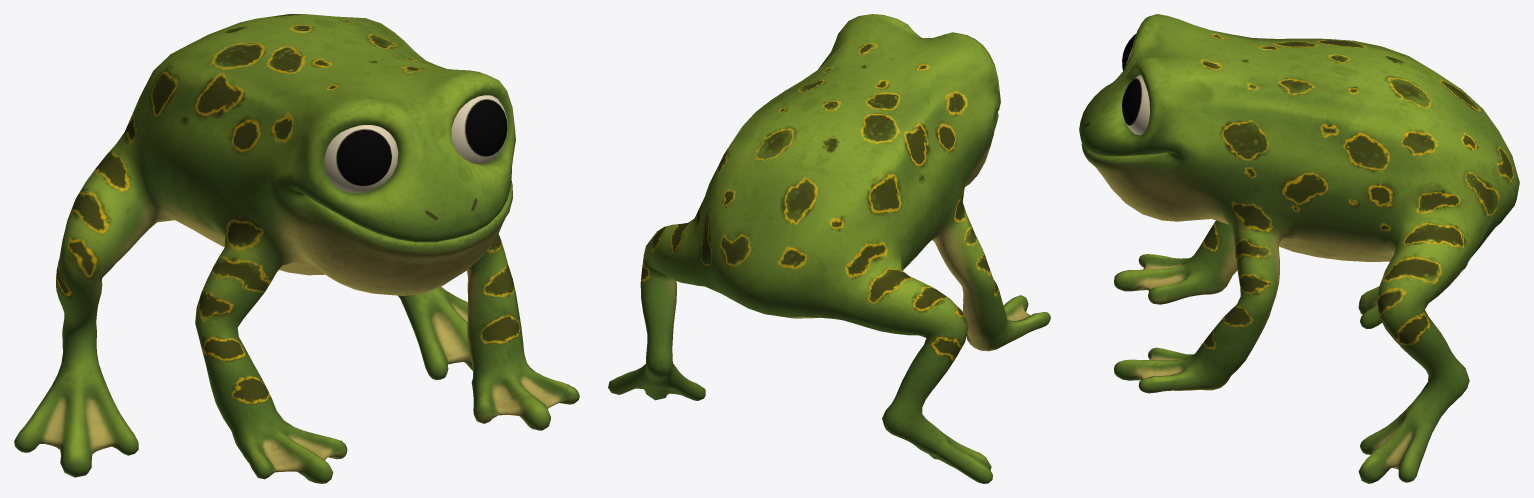
The model's file is frog_42a36860.glb.
The picture shows the model from 3 angles, left to right: view 1: azimuth 30°, elevation 25°; view 2: azimuth 150°, elevation 25°; view 3: azimuth 270°, elevation 25°; orthographic projection. The views are drawn at different scales.
Bounding box in the file's own units: 1.16 × 0.972 × 1.08.
1 material, 1 textured.
